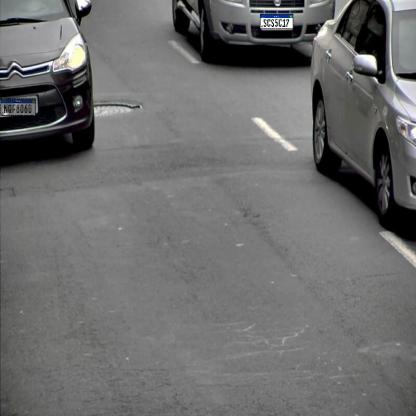PlacaM: (0, 98, 36, 116), (260, 14, 293, 29)
